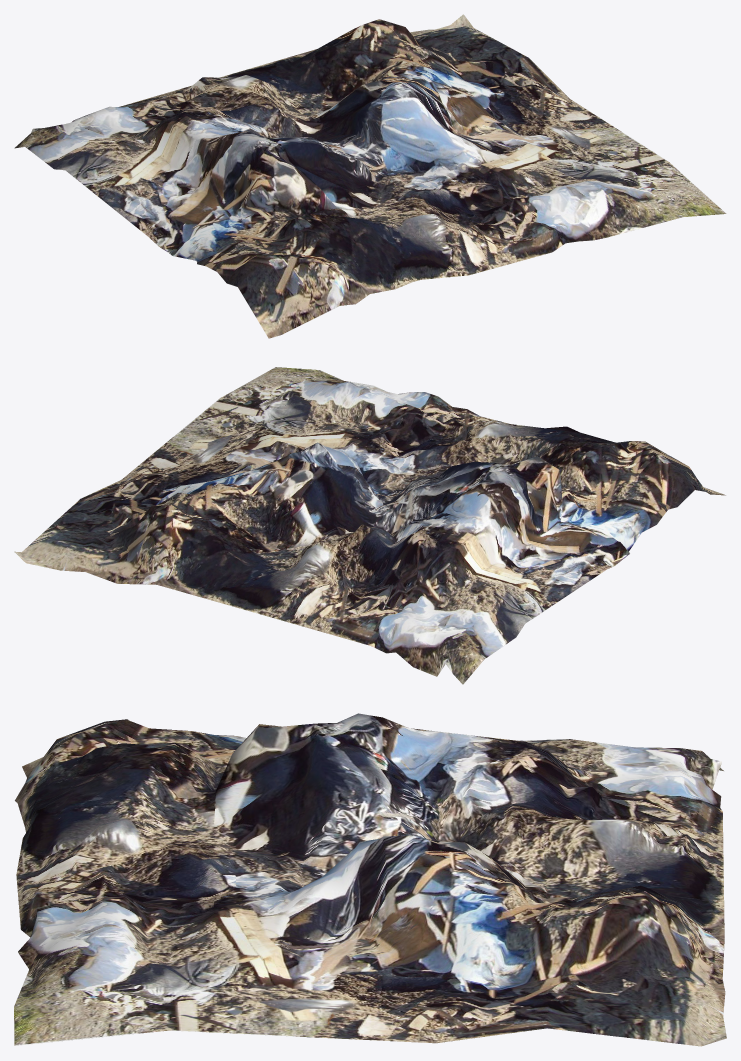
Rendered from junkpile.fbx.
3 renders of one model, top to bottom at view 1: azimuth 30°, elevation 25°; view 2: azimuth 150°, elevation 25°; view 3: azimuth 270°, elevation 25°, orthographic. The views are drawn at different scales.
Visible parts, largest first — view 1: trash0; view 2: trash0; view 3: trash0.
Boxes of the visible parts, x1,y1,x2,y2 form: trash0: [14, 14, 726, 338]; trash0: [14, 367, 725, 684]; trash0: [14, 713, 726, 1046].
Size of the model in its own units: 64.36 by 12.15 by 64.15.
